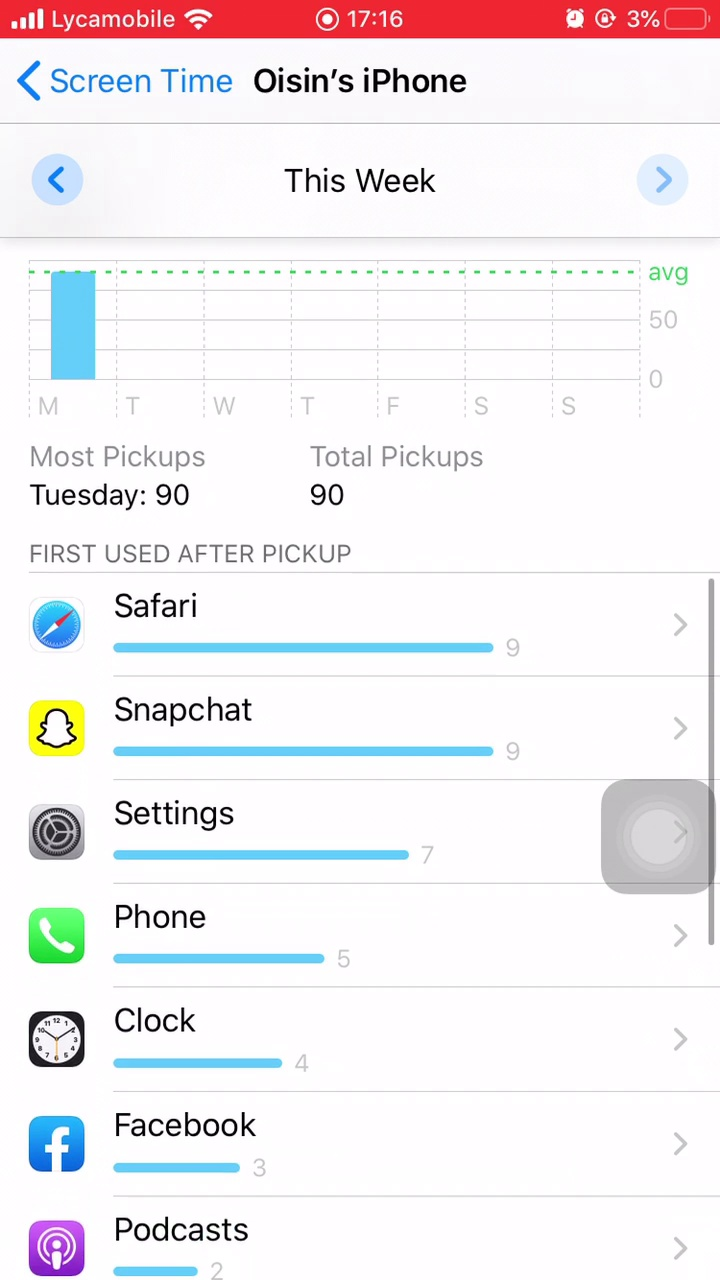pick_app: (29, 580, 564, 663), (17, 683, 556, 764), (20, 794, 470, 869), (23, 896, 387, 978), (18, 1092, 336, 1183), (23, 991, 331, 1075), (18, 1205, 296, 1278)
pick_over: (18, 425, 521, 522)
week: (262, 146, 454, 211)
